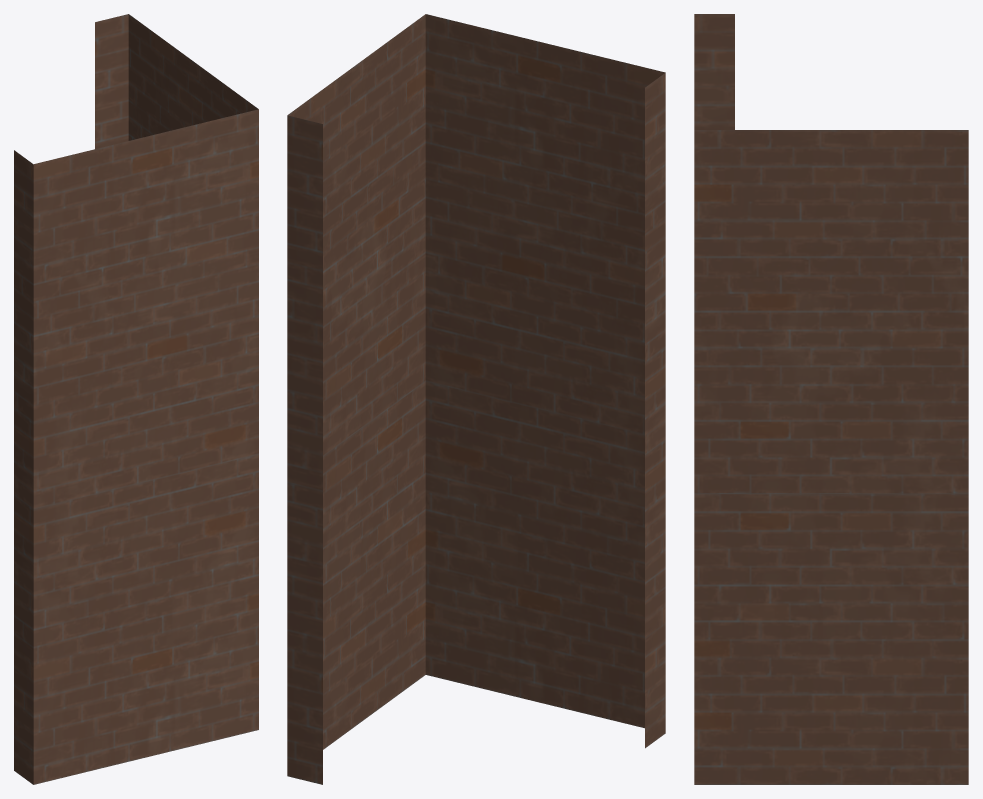
Rendered from brick_cornercolumn_center.glb.
3 renders of one model, left to right at view 1: azimuth 30°, elevation 25°; view 2: azimuth 150°, elevation 25°; view 3: azimuth 270°, elevation 25°, orthographic. The views are drawn at different scales.
Visible parts, largest first — view 1: Brick_CornerColumn_Center; view 2: Brick_CornerColumn_Center; view 3: Brick_CornerColumn_Center.
Part boxes in pixels (left/top/right/bottom): Brick_CornerColumn_Center: left=14, top=14, right=258, bottom=784; Brick_CornerColumn_Center: left=287, top=14, right=665, bottom=784; Brick_CornerColumn_Center: left=694, top=14, right=968, bottom=784.
Size of the model in its own units: 1.14 by 3 by 1.14.
1 material, 1 textured.
